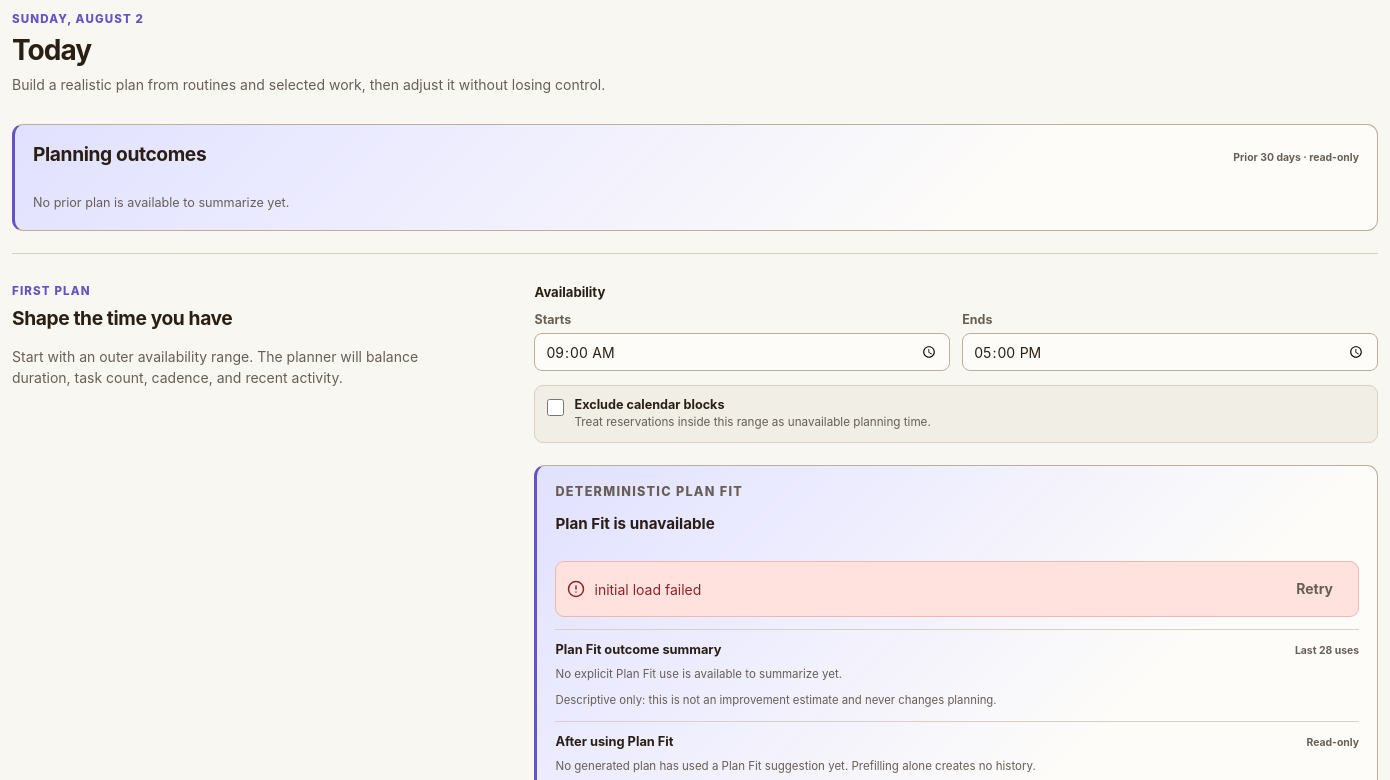
Test case: Today commands › recovers from an initial Plan Fit load failure only after explicit retry
The image size is (1390, 780).
Expected: the heading "Plan Fit is unavailable" is shown, [556,514,715,533]
Click the button "Retry".
click(1315, 590)  # box [1282,572,1347,608]
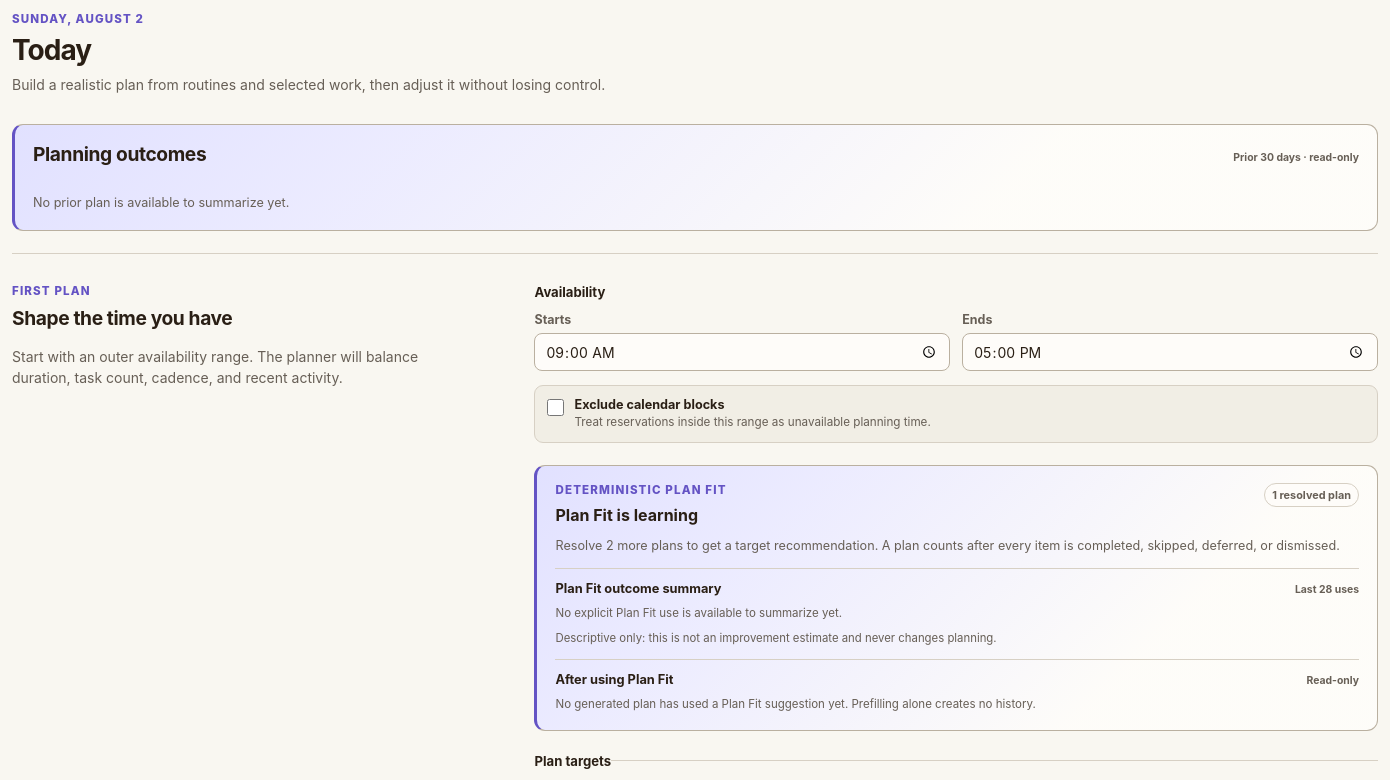
Now the heading "Plan Fit is learning" is shown, box [556,505,698,525]
